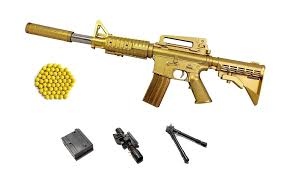long_gun: (24, 15, 267, 110)
